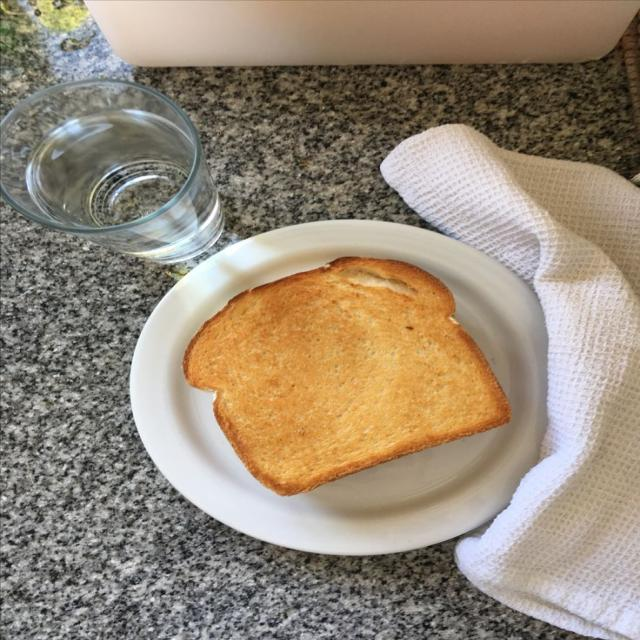toast bread: (184, 258, 510, 495)
